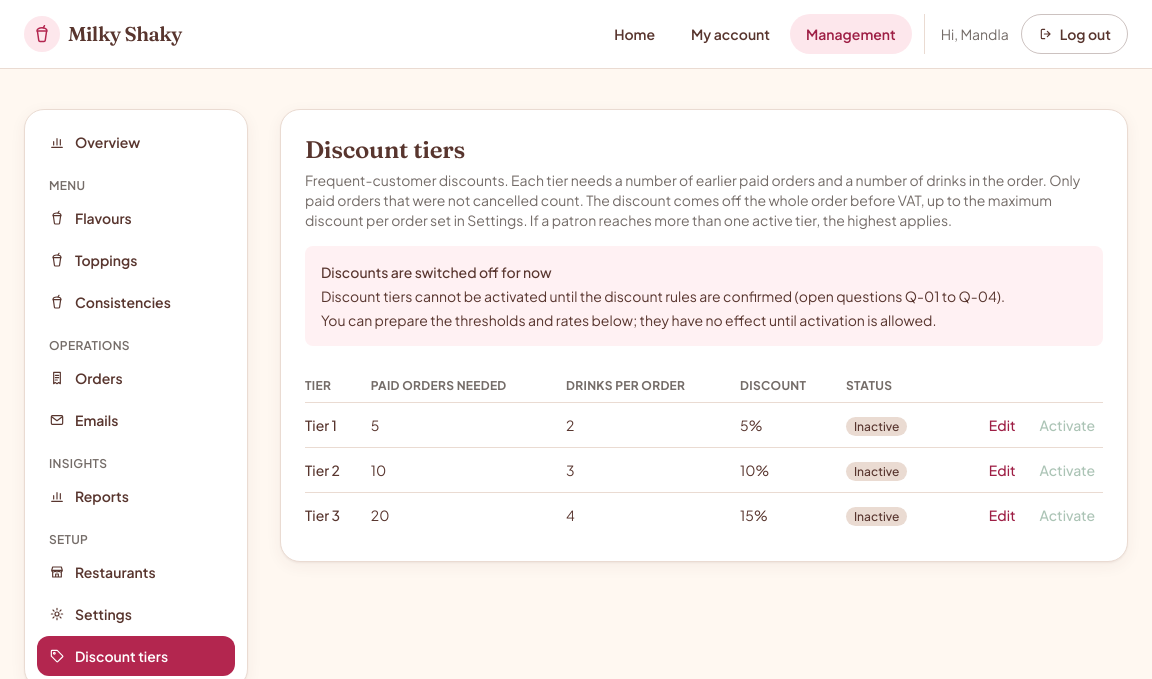
Test: discount tier management › saves new thresholds and a rate typed with a comma
Click the button with aria-label "Edit tier 2".
click(1002, 470)  # box [981,456,1024,484]
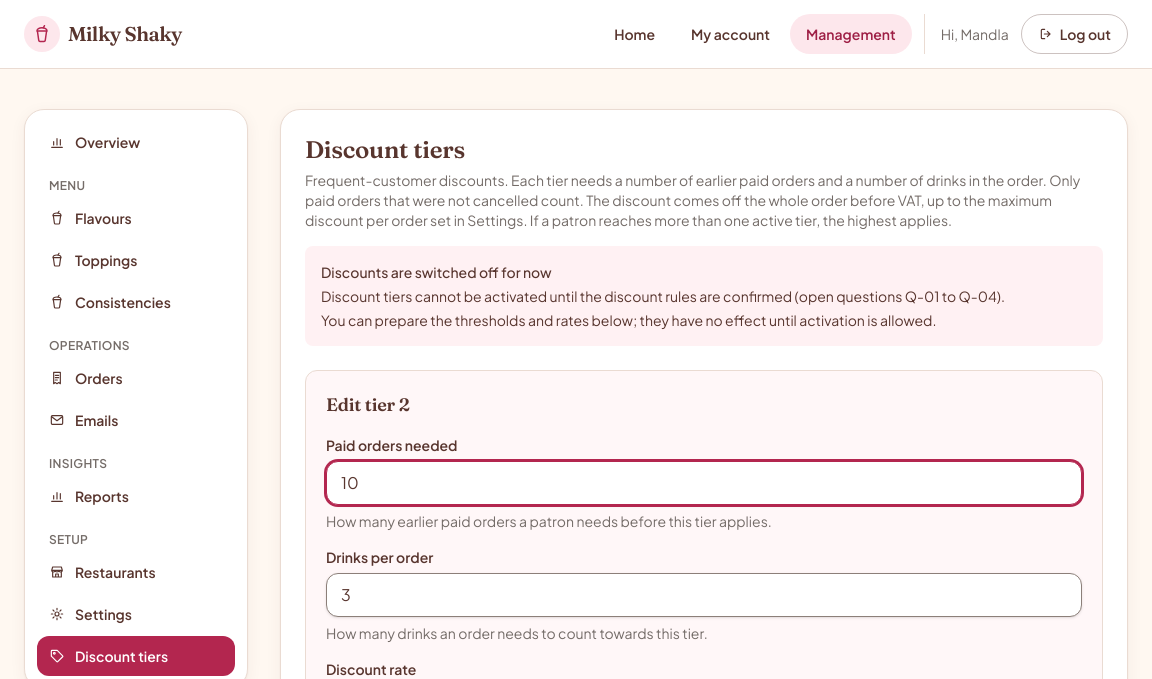
Replace the text in the field labelled "Paid orders needed" with "12" at [704, 483], box [326,461,1082,505]
(page scrolled)
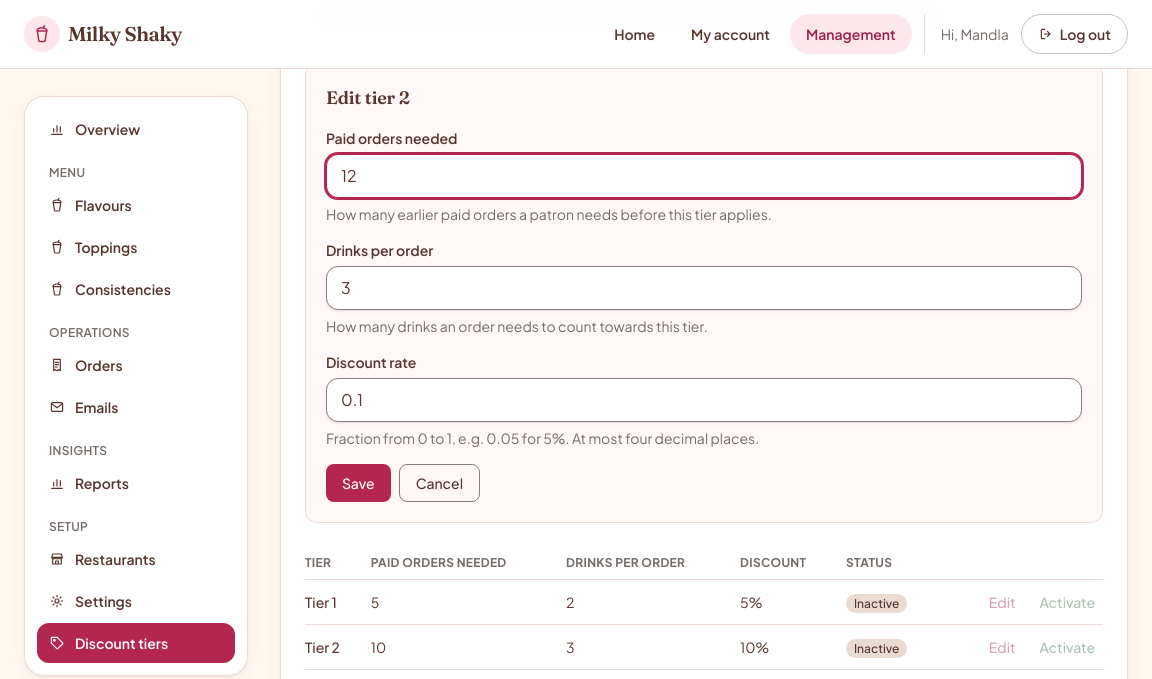
Replace the text in the field labelled "Discount rate" with "0,125" at [704, 400], box [326,378,1082,422]
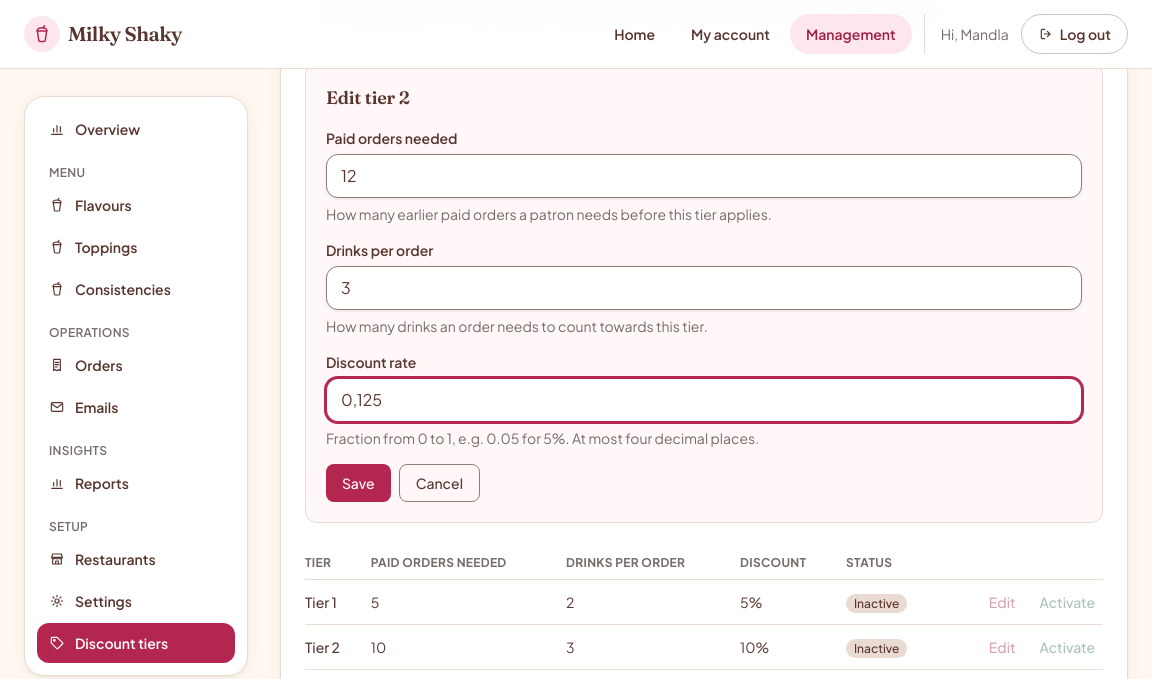
Click the button "Save".
click(358, 483)  # box [326,464,391,502]
(page scrolled)
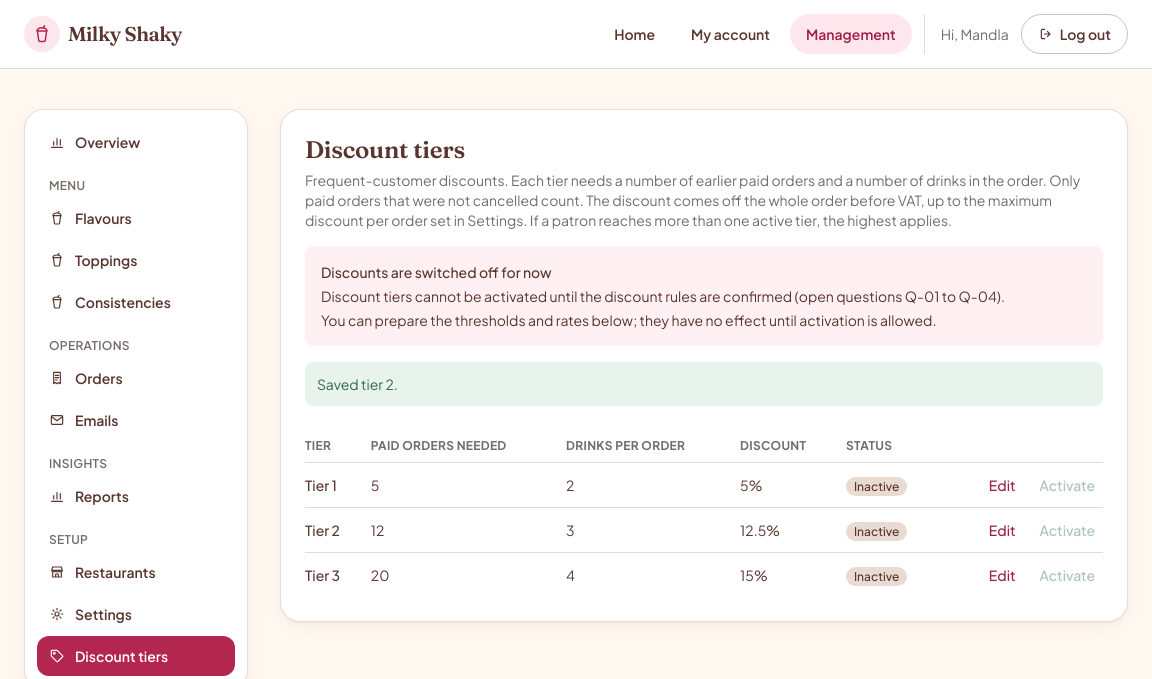
Now the text "Saved tier 2." is shown, box [305,362,1103,406]
